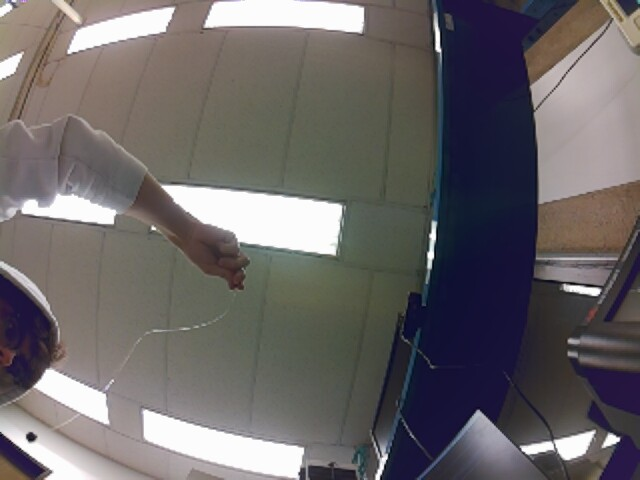mosquito: (21, 428, 40, 446)
